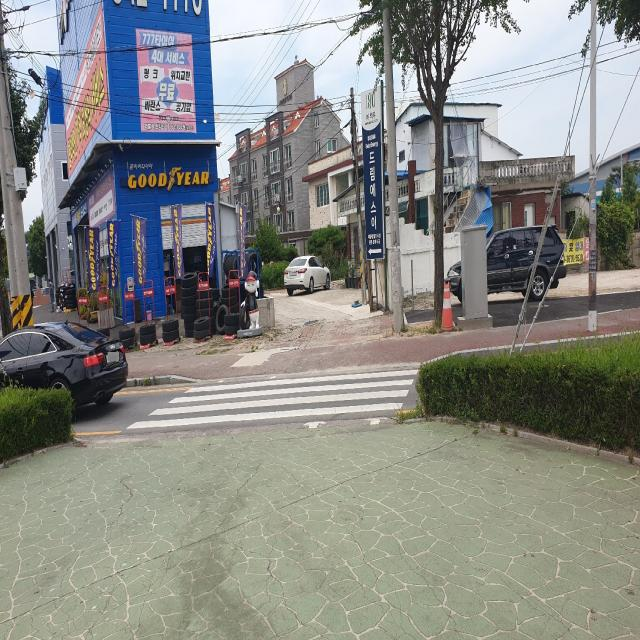횡단보도: (126, 369, 419, 429)
